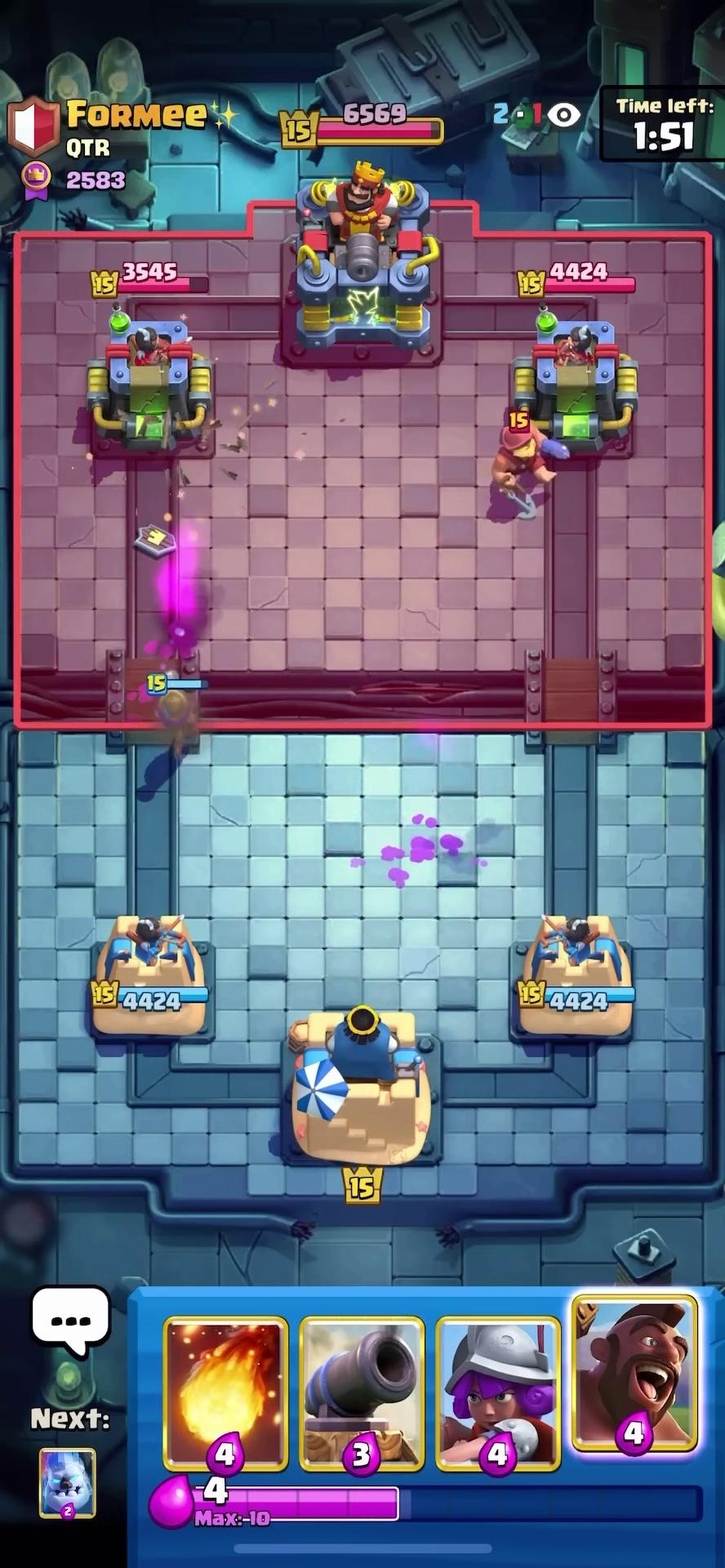musketeer: (141, 670, 218, 766)
